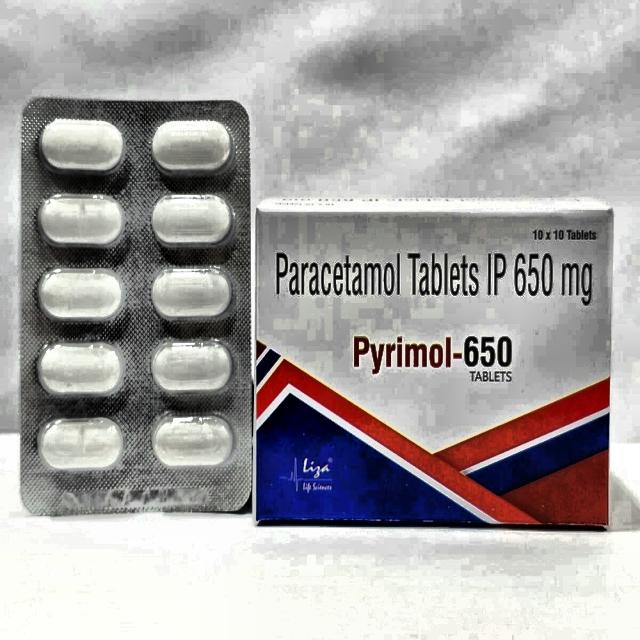Paracetamol: (263, 220, 604, 392)
